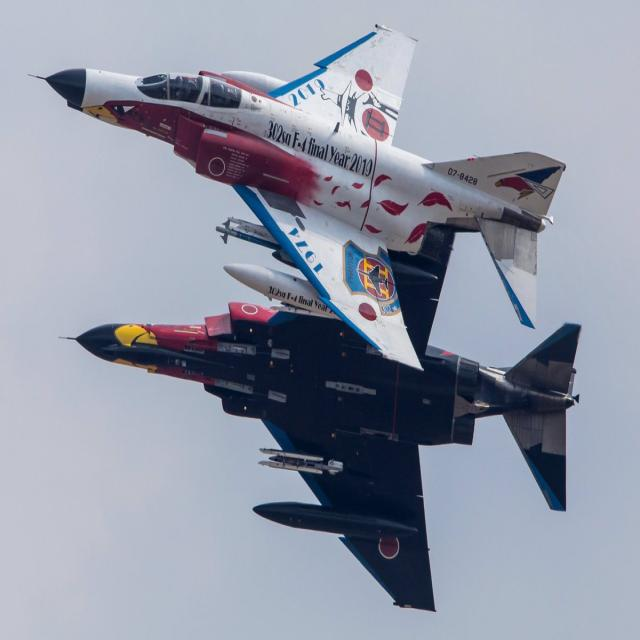MIL_Plane: (58, 231, 583, 613), (27, 23, 566, 371)
